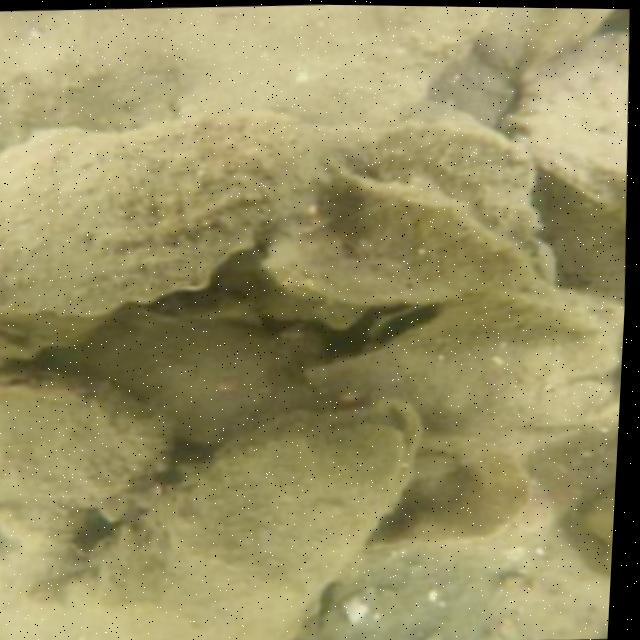Oyster-Closed: (47, 400, 424, 640), (260, 184, 558, 309)
Oyster-Indeterminate: (0, 116, 337, 323), (0, 373, 166, 553), (326, 535, 609, 640), (75, 317, 294, 442), (318, 108, 533, 233), (497, 32, 626, 169), (448, 282, 597, 347)
